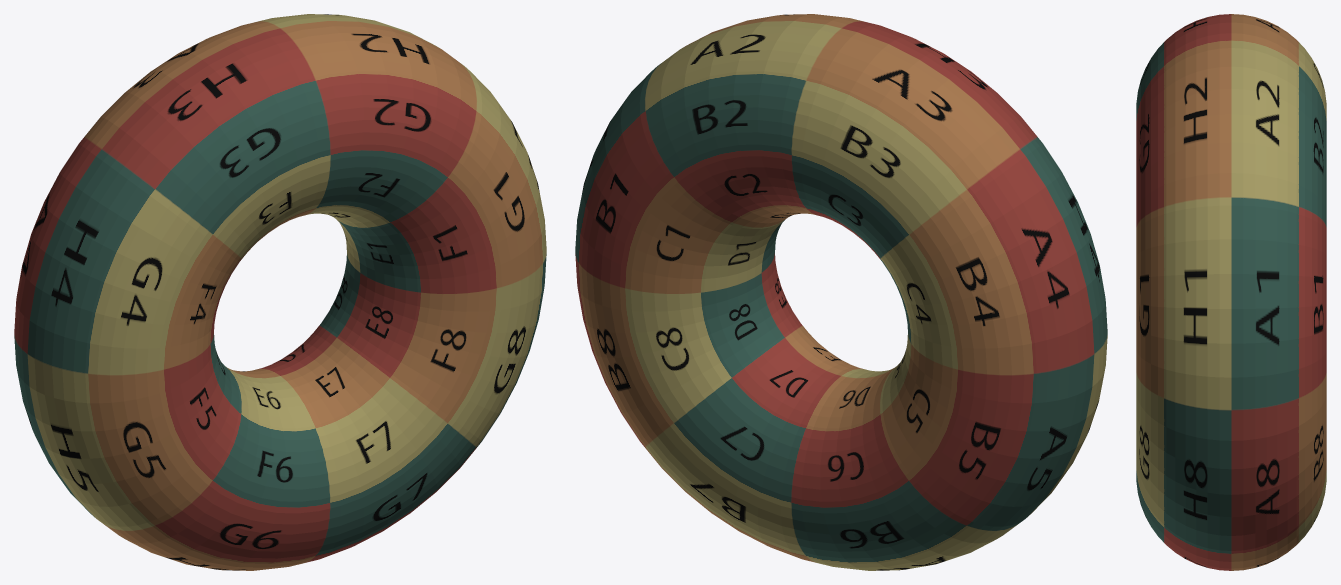
The model's file is texture_torus_R10_r25.glb.
3 views of the same model, side by side, from view 1: azimuth 30°, elevation 25°; view 2: azimuth 150°, elevation 25°; view 3: azimuth 270°, elevation 25° (orthographic). The views are drawn at different scales.
Parts seen in each view (by area): view 1: world; view 2: world; view 3: world.
Boxes of the visible parts, box(x1,y1,x2,y2) form: world: box(14, 14, 546, 570); world: box(575, 14, 1107, 570); world: box(1136, 14, 1326, 570).
Bounding box in the file's own units: 25.33 × 25.28 × 8.65.
1 material, 1 textured.
